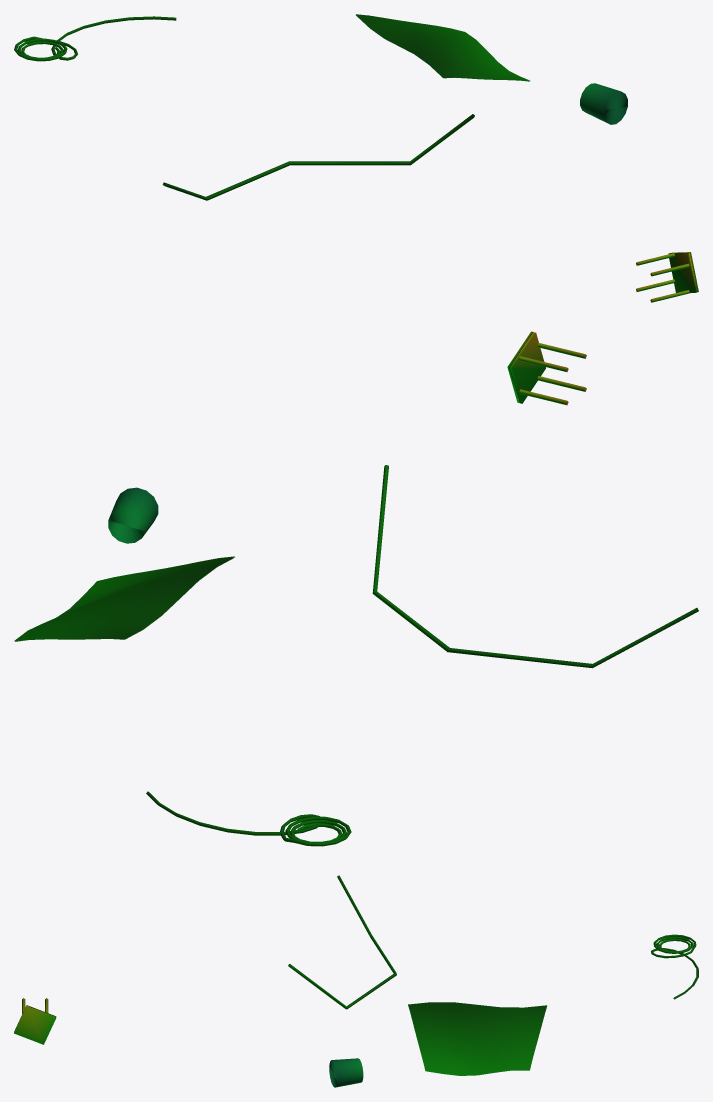
Rendered from terrace_derelict.glb.
The picture shows the model from 3 angles, top to bottom: view 1: azimuth 30°, elevation 25°; view 2: azimuth 150°, elevation 25°; view 3: azimuth 270°, elevation 25°; orthographic projection. The views are drawn at different scales.
Visible parts, largest first — view 1: terrace_derelict; view 2: terrace_derelict; view 3: terrace_derelict.
Part boxes in pixels (x1,y1,x2,y2): terrace_derelict: [14, 14, 698, 302]; terrace_derelict: [14, 331, 698, 846]; terrace_derelict: [14, 875, 698, 1087].
Size of what is drawn, in the model's own units: 5.17 by 0.8227 by 8.36.
